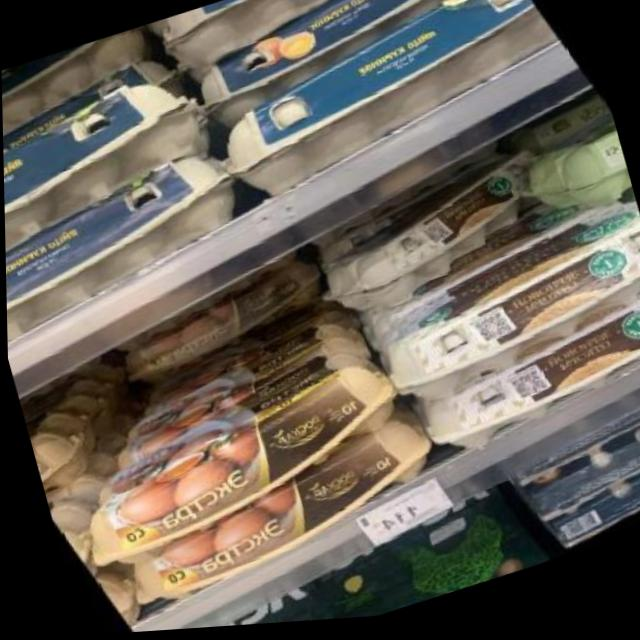Egg: (36, 329, 428, 591), (183, 0, 580, 224), (91, 410, 454, 634), (345, 193, 640, 433), (290, 134, 591, 343), (2, 129, 274, 358), (1, 54, 231, 277), (164, 0, 525, 136), (398, 278, 640, 479), (102, 252, 340, 401), (136, 0, 491, 92)
